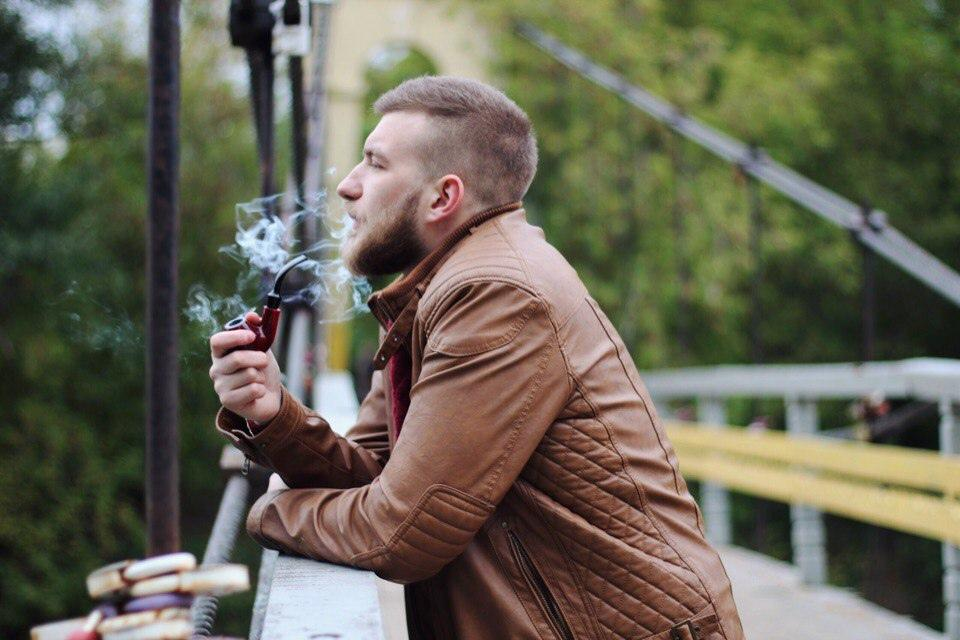trubka: (222, 255, 307, 357)
